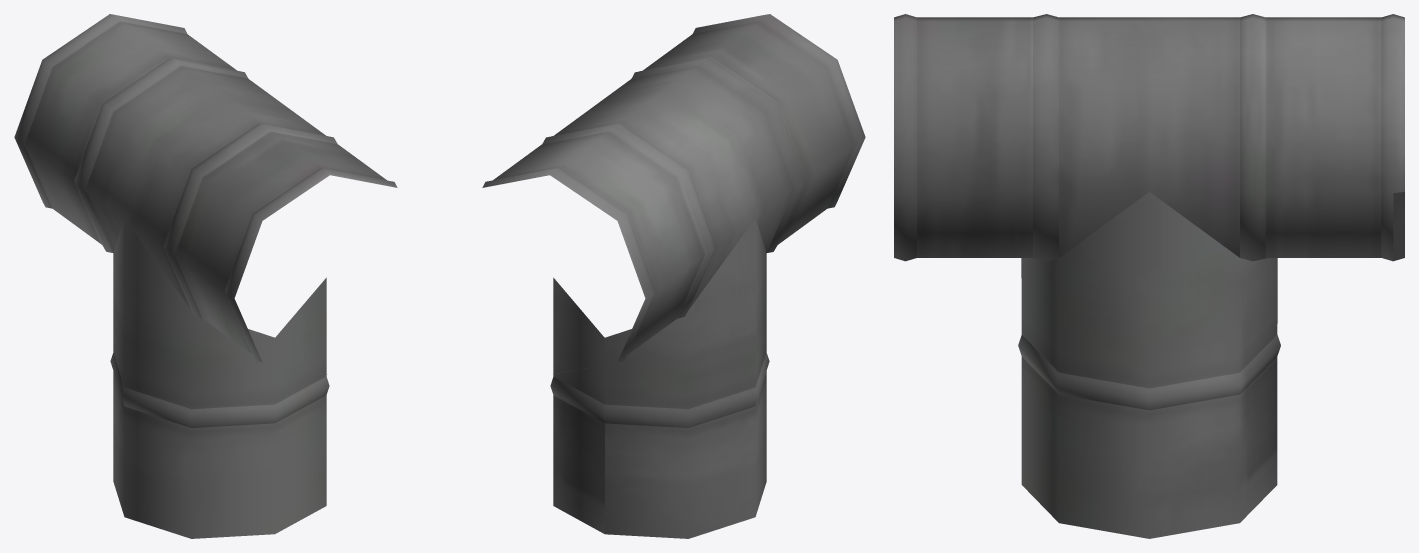
3 renders of one model, left to right at view 1: azimuth 30°, elevation 25°; view 2: azimuth 150°, elevation 25°; view 3: azimuth 270°, elevation 25°, orthographic. The views are drawn at different scales.
Parts seen in each view (by area): view 1: body0_model0_lod0_mesh0; view 2: body0_model0_lod0_mesh0; view 3: body0_model0_lod0_mesh0.
Part boxes in pixels (<box>): body0_model0_lod0_mesh0: <box>14,14,397,538</box>; body0_model0_lod0_mesh0: <box>482,14,865,538</box>; body0_model0_lod0_mesh0: <box>894,14,1404,538</box>.
Size of the model in its own units: 16.49 by 32.24 by 32.
1 material, 1 textured.
